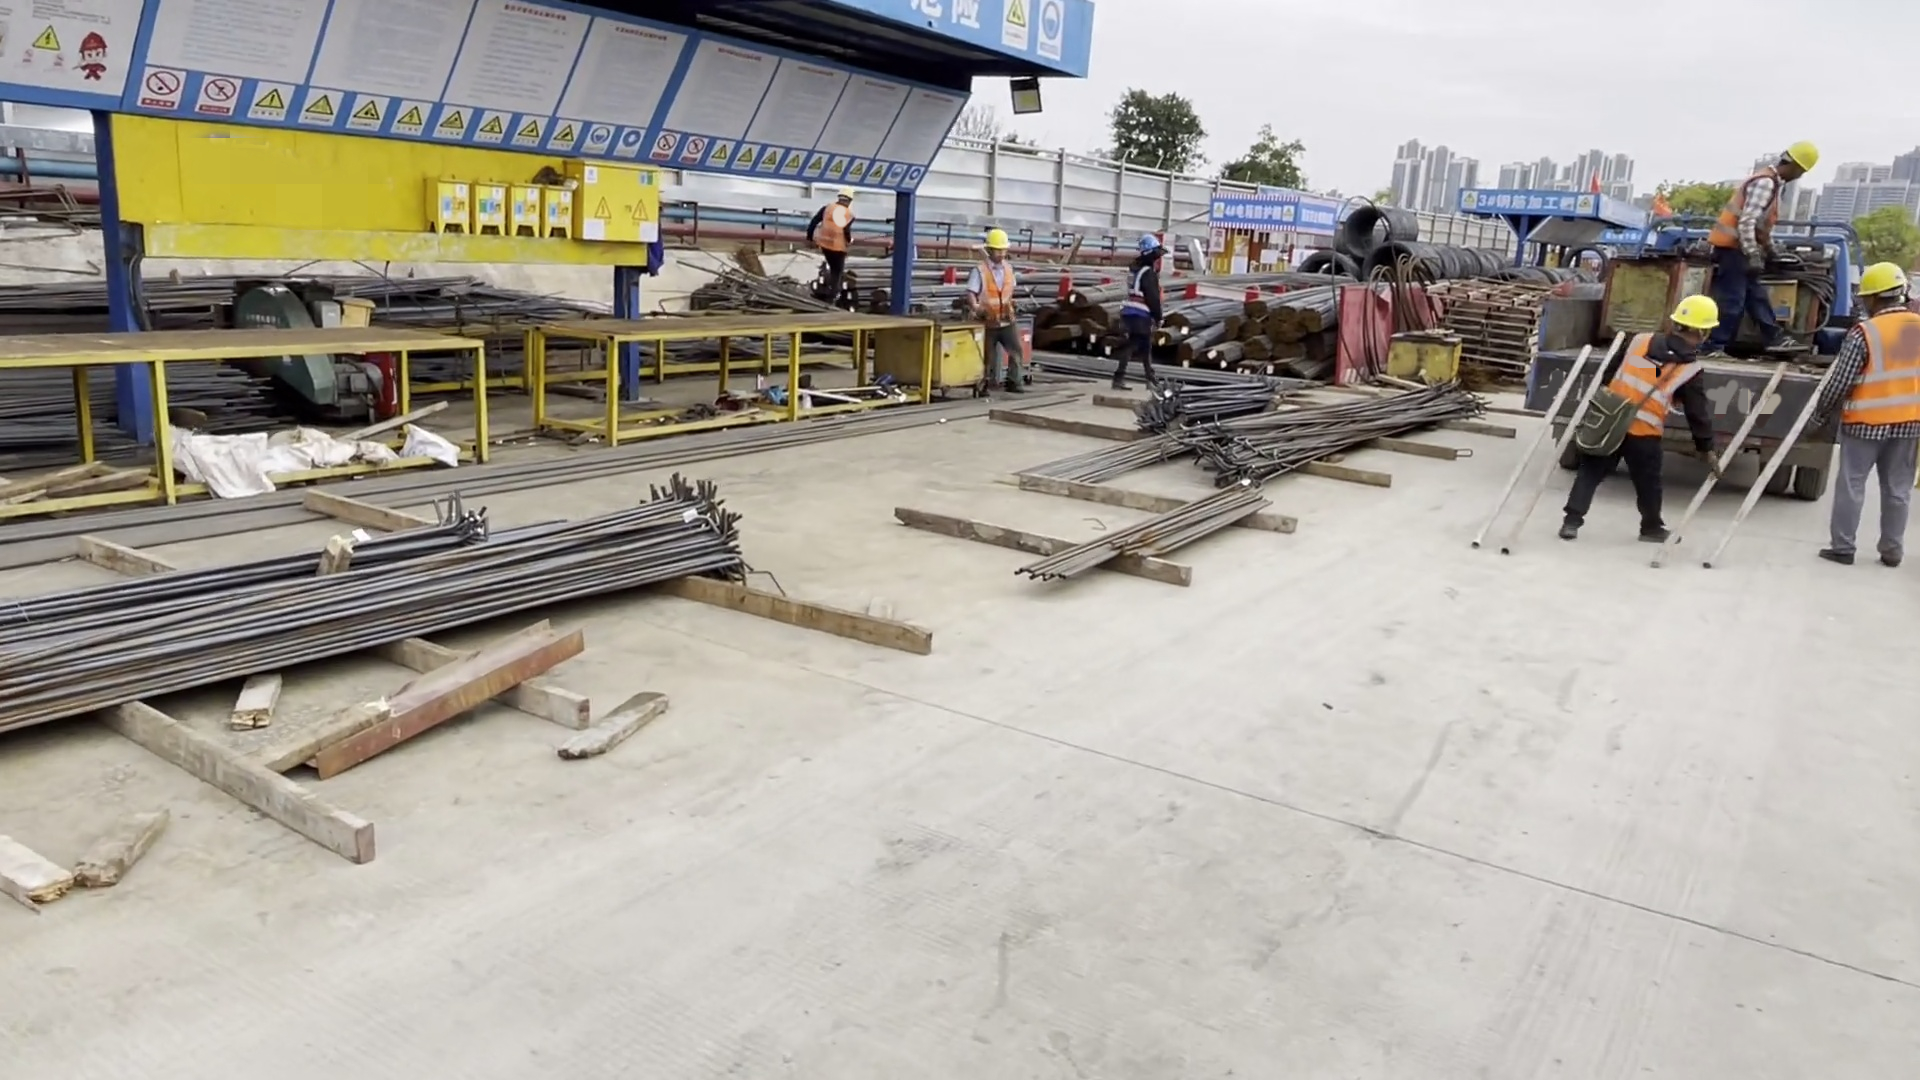helmet: (1854, 269, 1917, 295), (1676, 290, 1718, 329), (1787, 140, 1814, 171), (981, 227, 1012, 254), (1135, 234, 1166, 253), (835, 184, 853, 197)
person: (1559, 292, 1719, 548), (1835, 253, 1920, 561), (1709, 139, 1820, 356), (973, 221, 1032, 410), (1111, 220, 1169, 394), (811, 182, 860, 313)
vest: (1851, 318, 1918, 440), (1614, 339, 1695, 439), (1711, 177, 1780, 254), (978, 262, 1020, 333), (1117, 265, 1158, 327), (822, 207, 852, 255)
